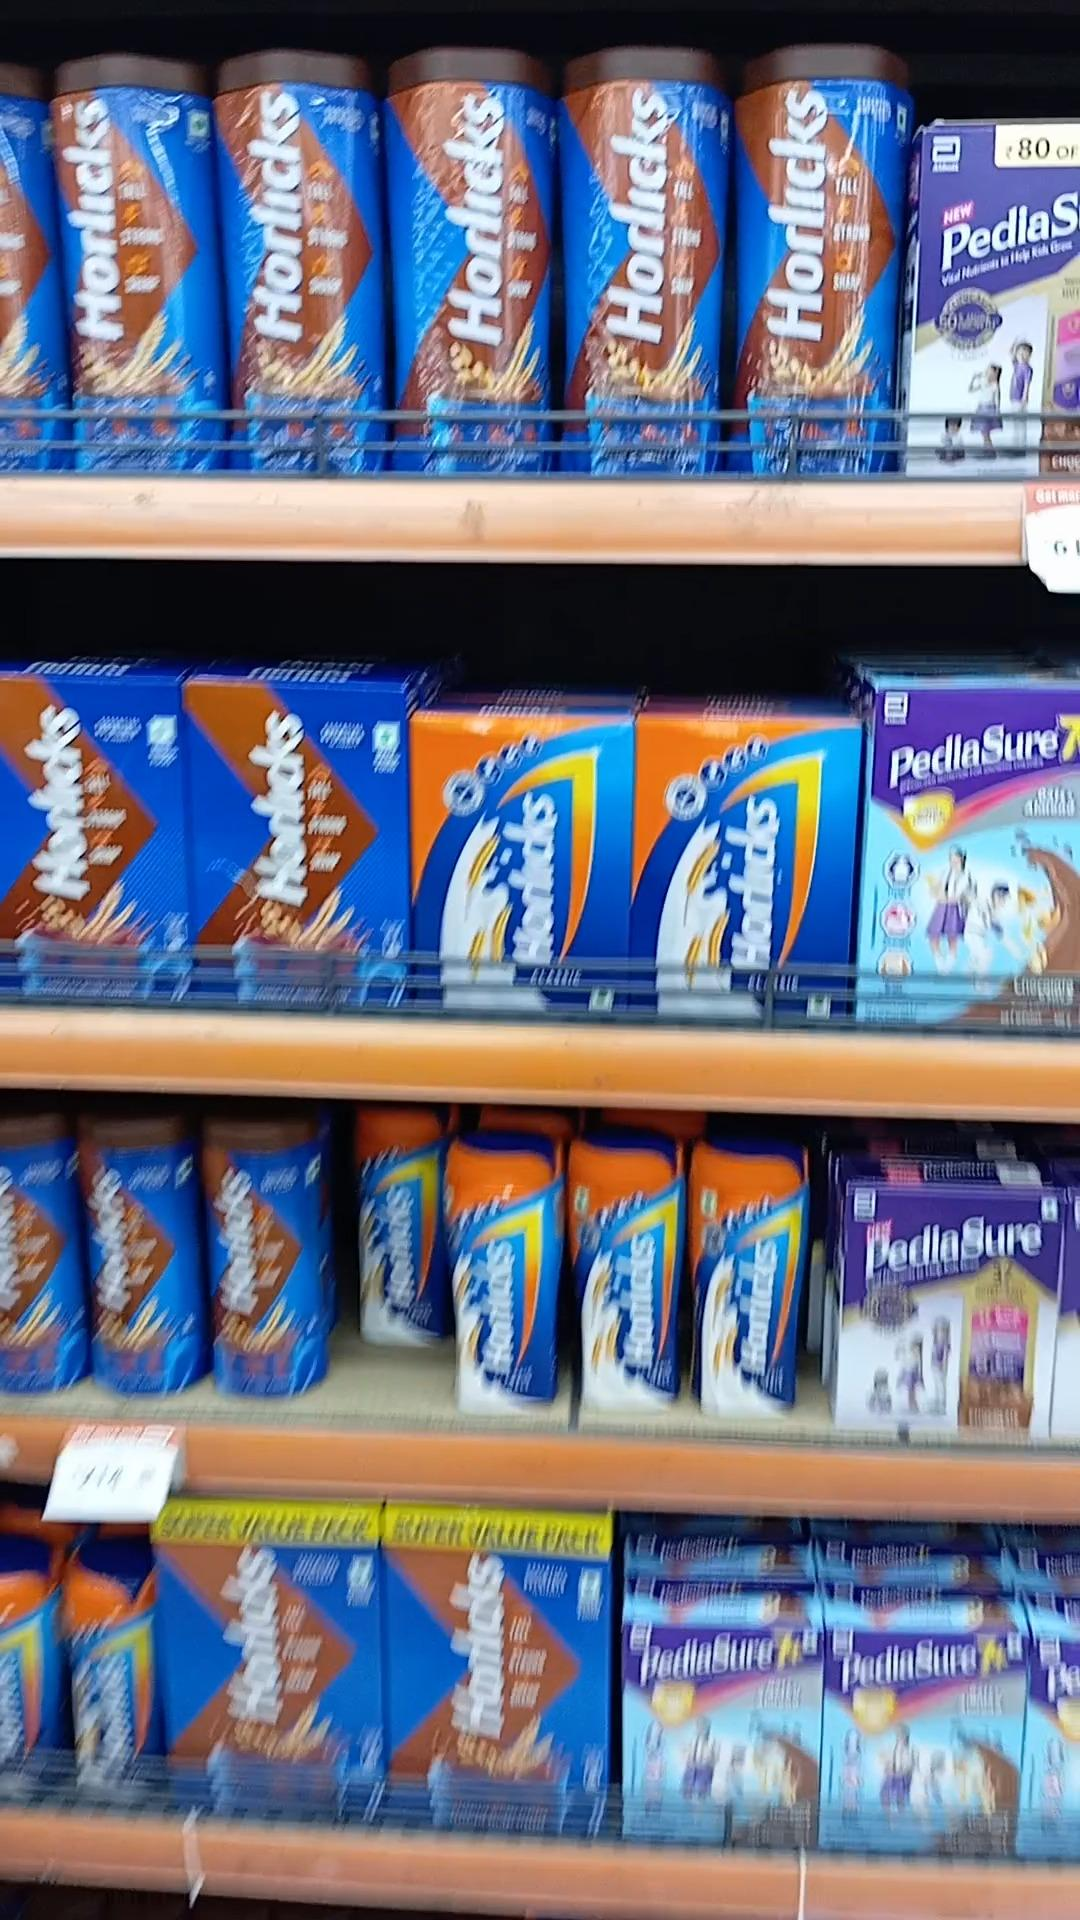HORLICK_CHOCOLATE_1_KG_JAR: (733, 41, 903, 485), (385, 34, 551, 476), (563, 41, 724, 472), (219, 41, 377, 471), (55, 38, 214, 463)
HORLICK_CHOCOLATE_1_KG_PACK: (162, 1510, 389, 1822), (393, 1505, 600, 1837)
HORLICK_CHOCOLATE_500_G_JAR: (211, 1101, 326, 1400), (83, 1093, 199, 1389)
HORLICK_CHOCOLATE_500_G_PACK: (185, 682, 405, 1005), (4, 671, 175, 994)
HORLICK_CLASSIC_MALT_200_G_JAR: (67, 1522, 158, 1811)
HORLICK_CLASSIC_MALT_500_G_JAR: (439, 1121, 567, 1416), (692, 1141, 804, 1420), (574, 1124, 682, 1411), (353, 1101, 436, 1349)
HORLICK_CLASSIC_MALT_500_G_PACK: (638, 713, 853, 1013), (415, 715, 628, 1007)
PEDIASURE_7_PLUS_CHOCOLATE_400_G_PACK: (865, 682, 1080, 1038), (823, 1627, 1017, 1861), (628, 1626, 808, 1851)
PEDIASURE_CHOCOLATE_500_G_PACK: (836, 1185, 1062, 1441)
